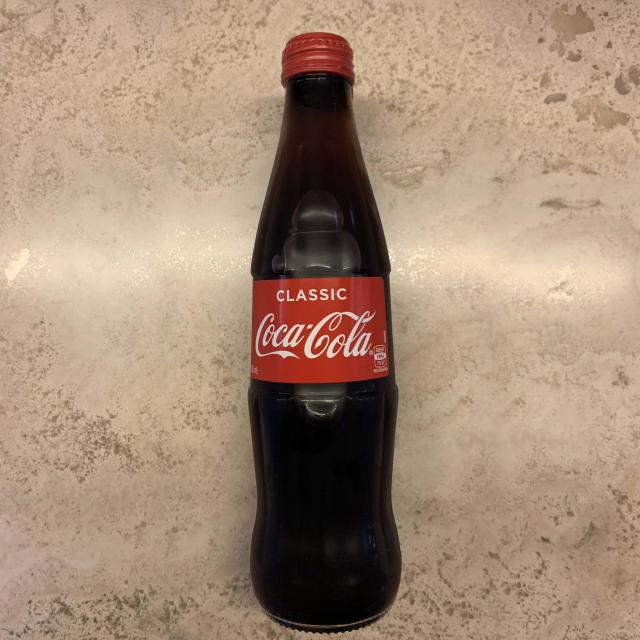coca-cola: (239, 23, 410, 638)
